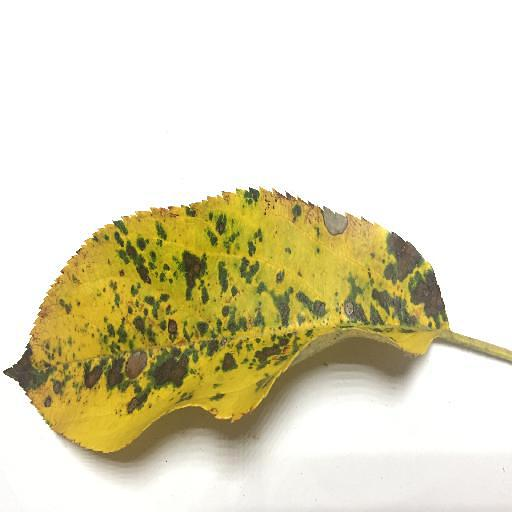Brown_Spot: (8, 145, 450, 484)
